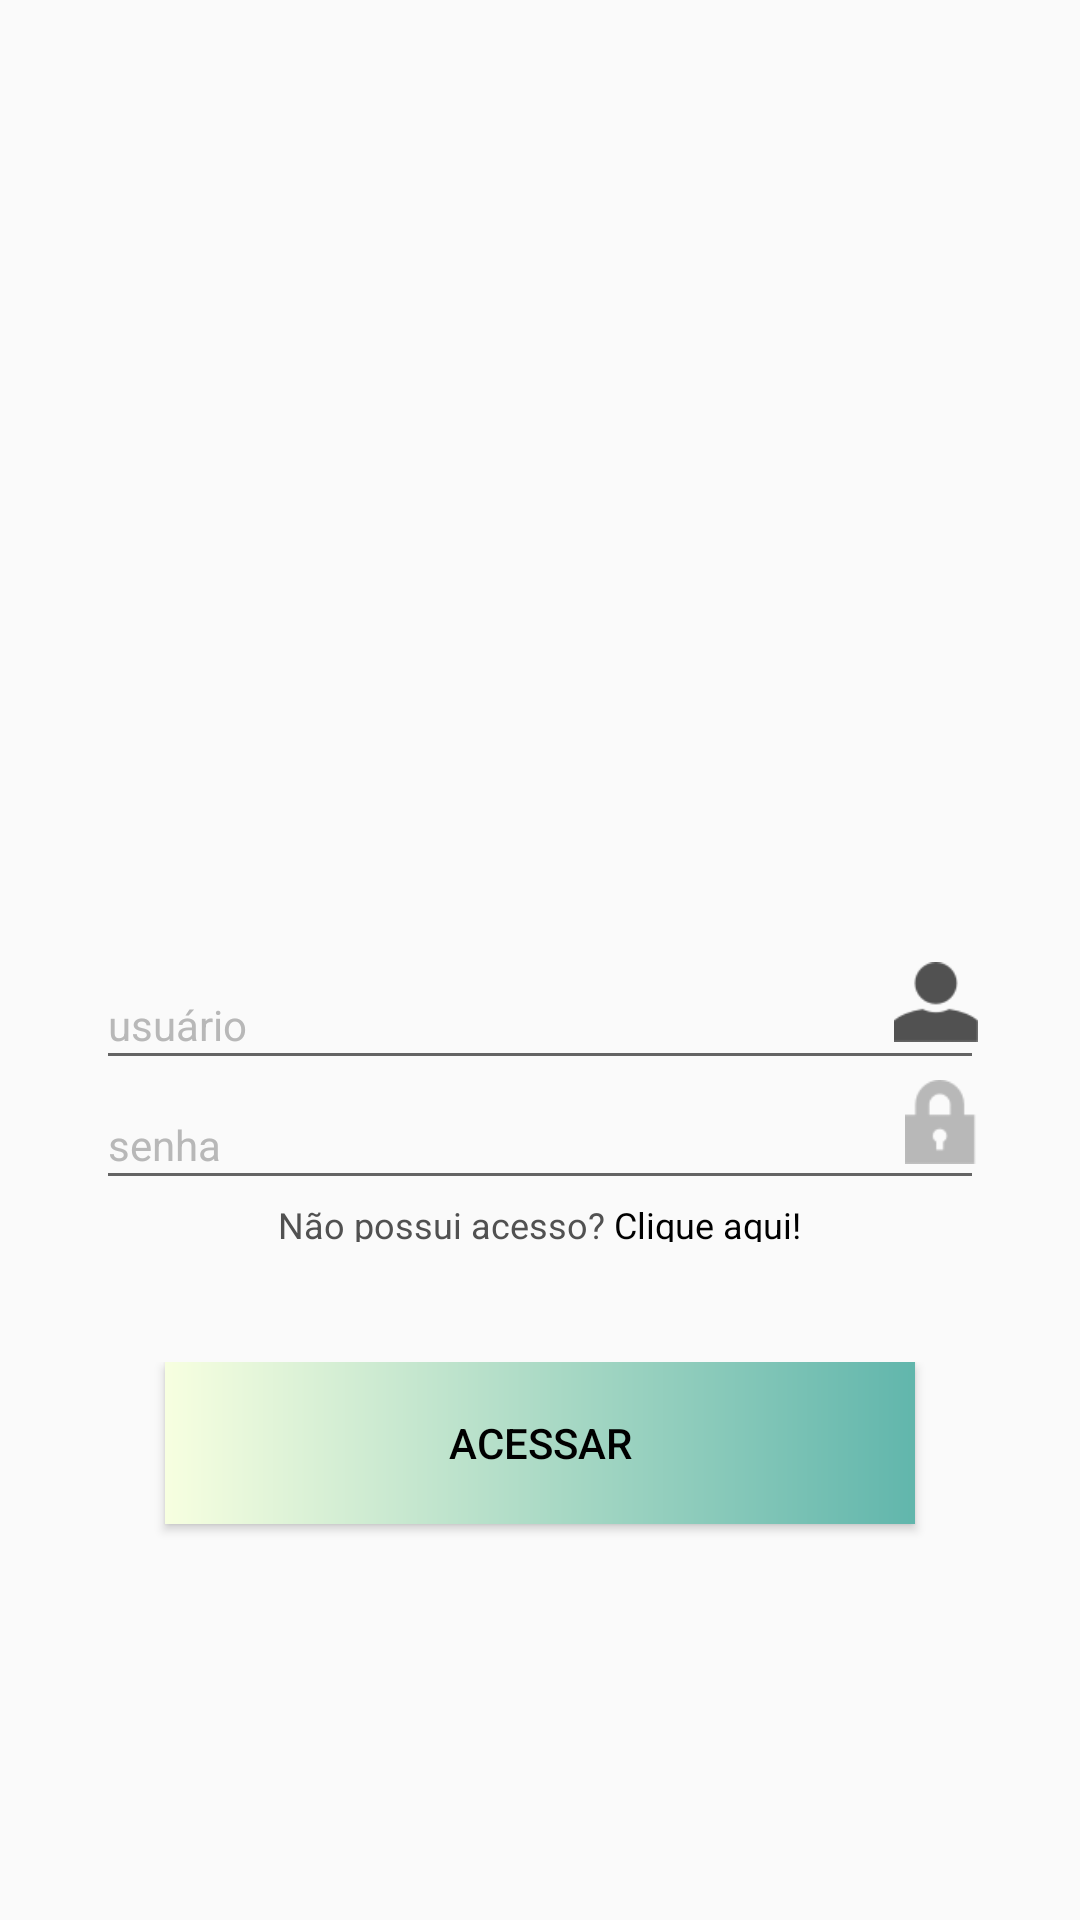

Screen size 1080 x 1920. Icon name, then its center in pixels as (x,y):
login password: (940,1122)
login user: (936,1002)
